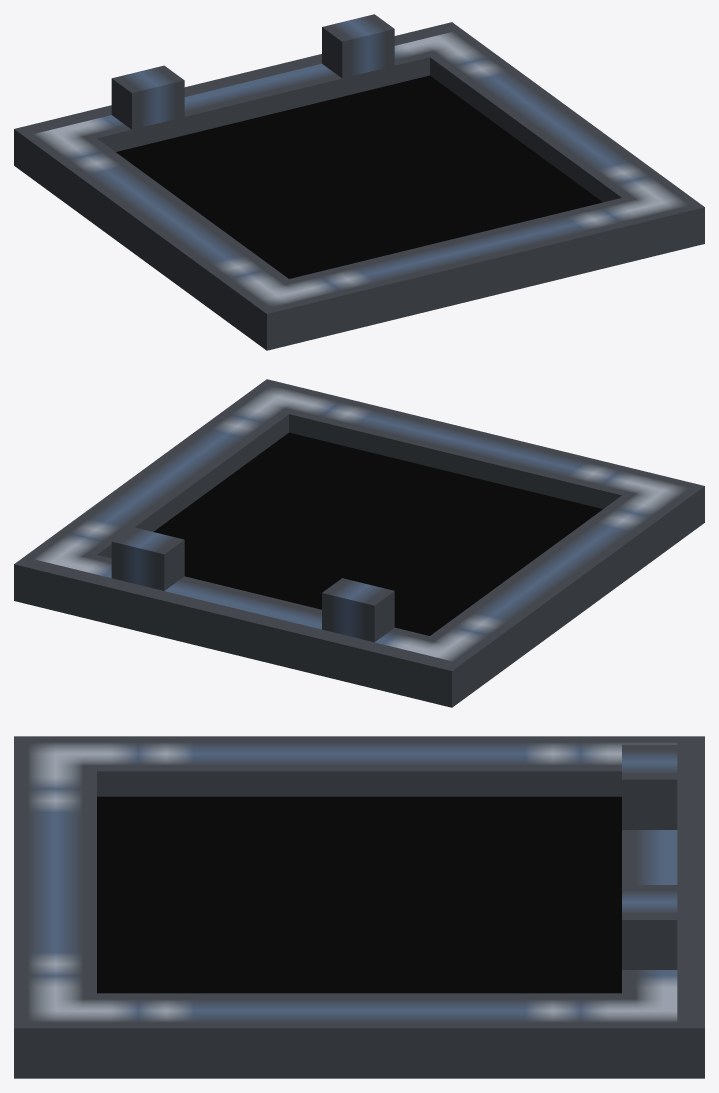
The model's file is trapdoor_frame.fbx.
3 renders of one model, top to bottom at view 1: azimuth 30°, elevation 25°; view 2: azimuth 150°, elevation 25°; view 3: azimuth 270°, elevation 25°, orthographic. The views are drawn at different scales.
Parts seen in each view (by area): view 1: trapdoor_frame; view 2: trapdoor_frame; view 3: trapdoor_frame.
Part boxes in pixels (x1,y1,x2,y2): trapdoor_frame: (14,14,704,350); trapdoor_frame: (14,379,704,707); trapdoor_frame: (14,736,704,1078).
Bounding box in the file's own units: 25 × 4 × 25.
Materials: 1 (1 with a texture image).
